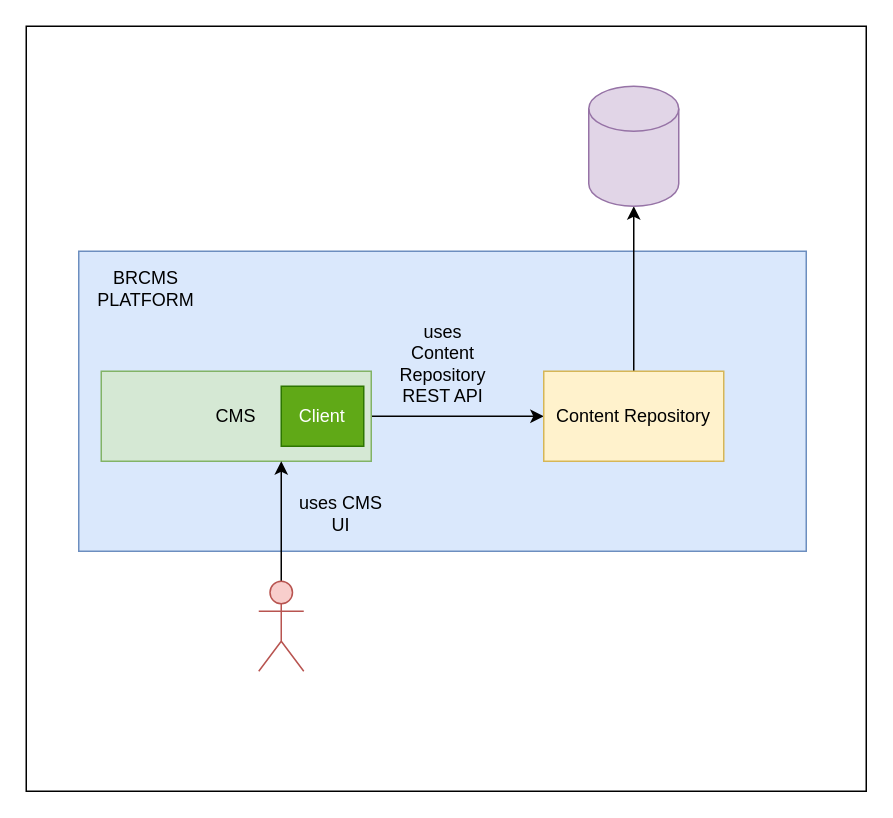
Image size: 893x818. Some labels were removed from this diagram. Here are the shapes that lost their labels. From the top down, the centre of each, then its label:
point (633, 145): DB
point (280, 625): User
